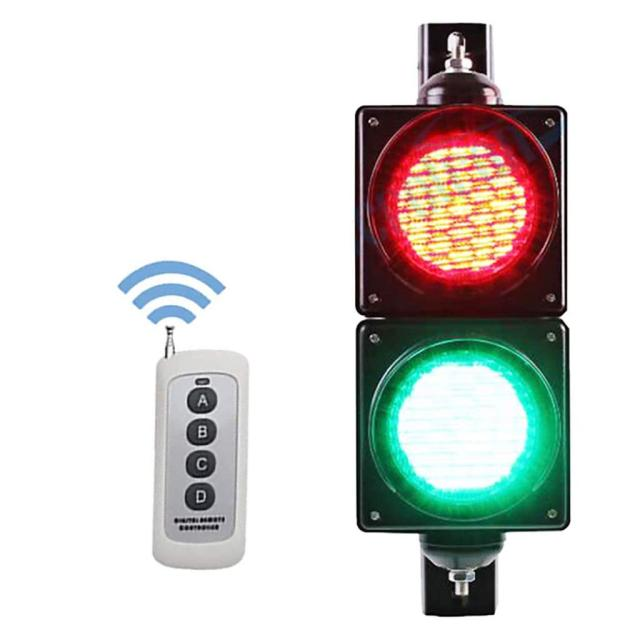green: (374, 326, 555, 522)
red: (382, 122, 546, 282)
